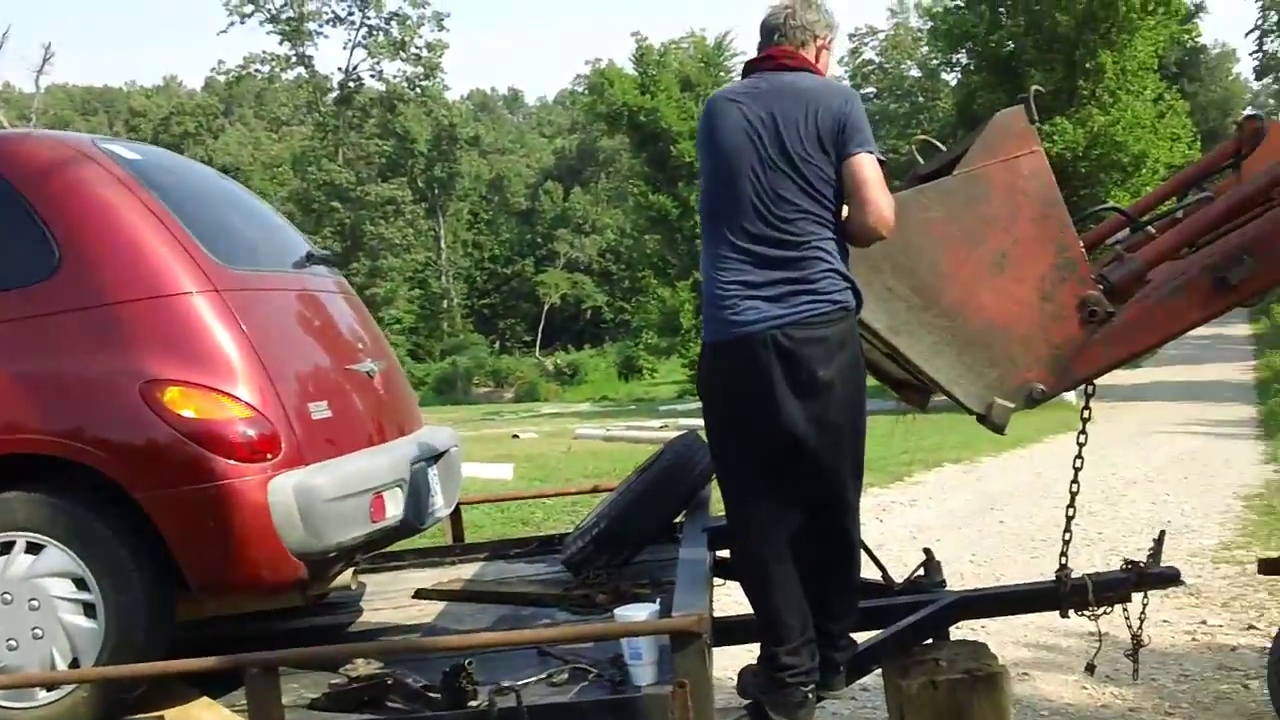person: (695, 1, 896, 720)
